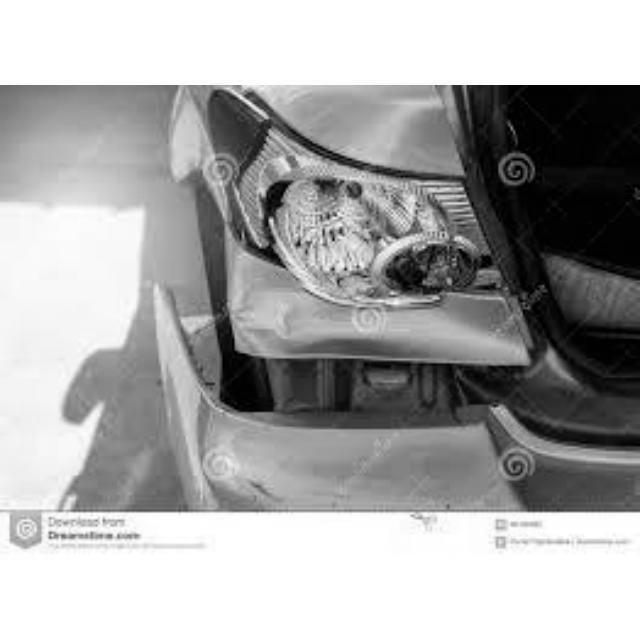Headlight-damage: (226, 135, 477, 301)
front-bumper-dent: (165, 329, 638, 524)
